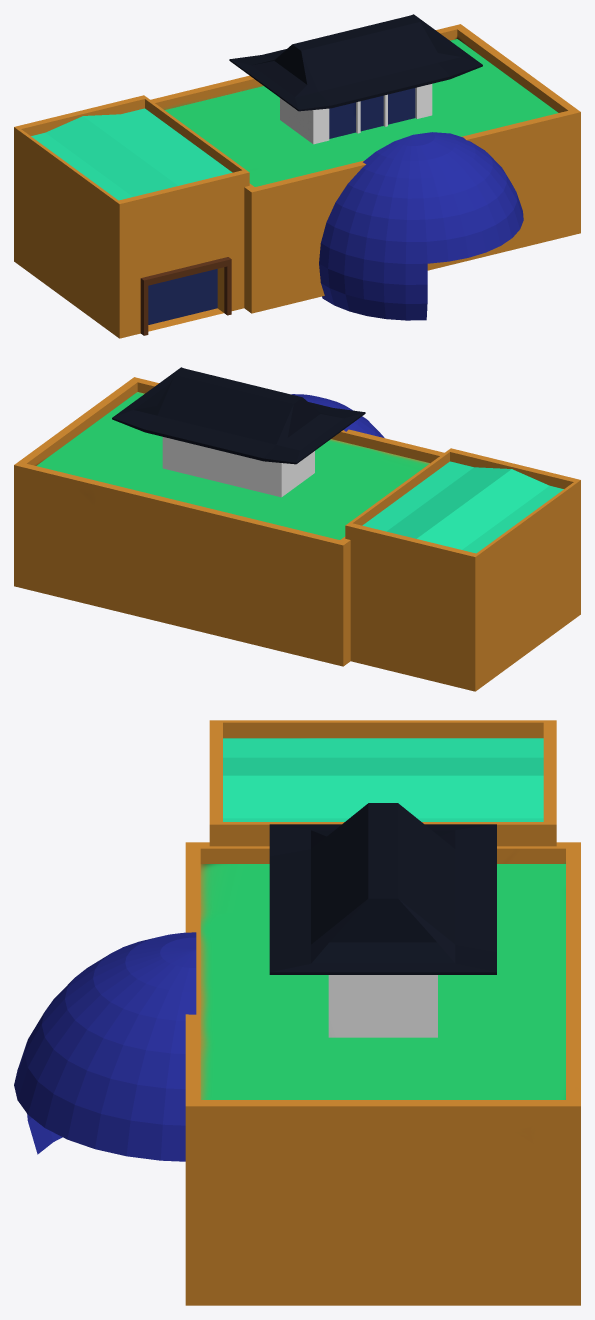
File: cjland3.fbx
3 views of the same model, one above another, from view 1: azimuth 30°, elevation 25°; view 2: azimuth 150°, elevation 25°; view 3: azimuth 270°, elevation 25° (orthographic). The views are drawn at different scales.
Visible parts, largest first — view 1: Cube.003, Cube, Sphere, Cube.002, Cube.001; view 2: Cube, Cube.003, Cube.002, Cube.001, Sphere; view 3: Cube, Cube.003, Cube.002, Sphere, Cube.001.
Boxes of the visible parts, left/top/right/bottom form: Cube.003: left=14, top=95, right=249, bottom=338; Cube: left=150, top=24, right=580, bottom=313; Sphere: left=319, top=132, right=523, bottom=320; Cube.002: left=229, top=14, right=482, bottom=111; Cube.001: left=280, top=84, right=432, bottom=144; Cube: left=14, top=377, right=444, bottom=666; Cube.003: left=345, top=448, right=580, bottom=691; Cube.002: left=112, top=367, right=365, bottom=464; Cube.001: left=162, top=437, right=314, bottom=497; Sphere: left=291, top=394, right=384, bottom=437; Cube: left=185, top=842, right=580, bottom=1305; Cube.003: left=209, top=720, right=556, bottom=846; Cube.002: left=269, top=803, right=496, bottom=974; Sphere: left=14, top=932, right=196, bottom=1161; Cube.001: left=328, top=975, right=437, bottom=1037.
Size of the model in its own units: 1574 by 668 by 1035.
Materials: 5 (3 with a texture image).
